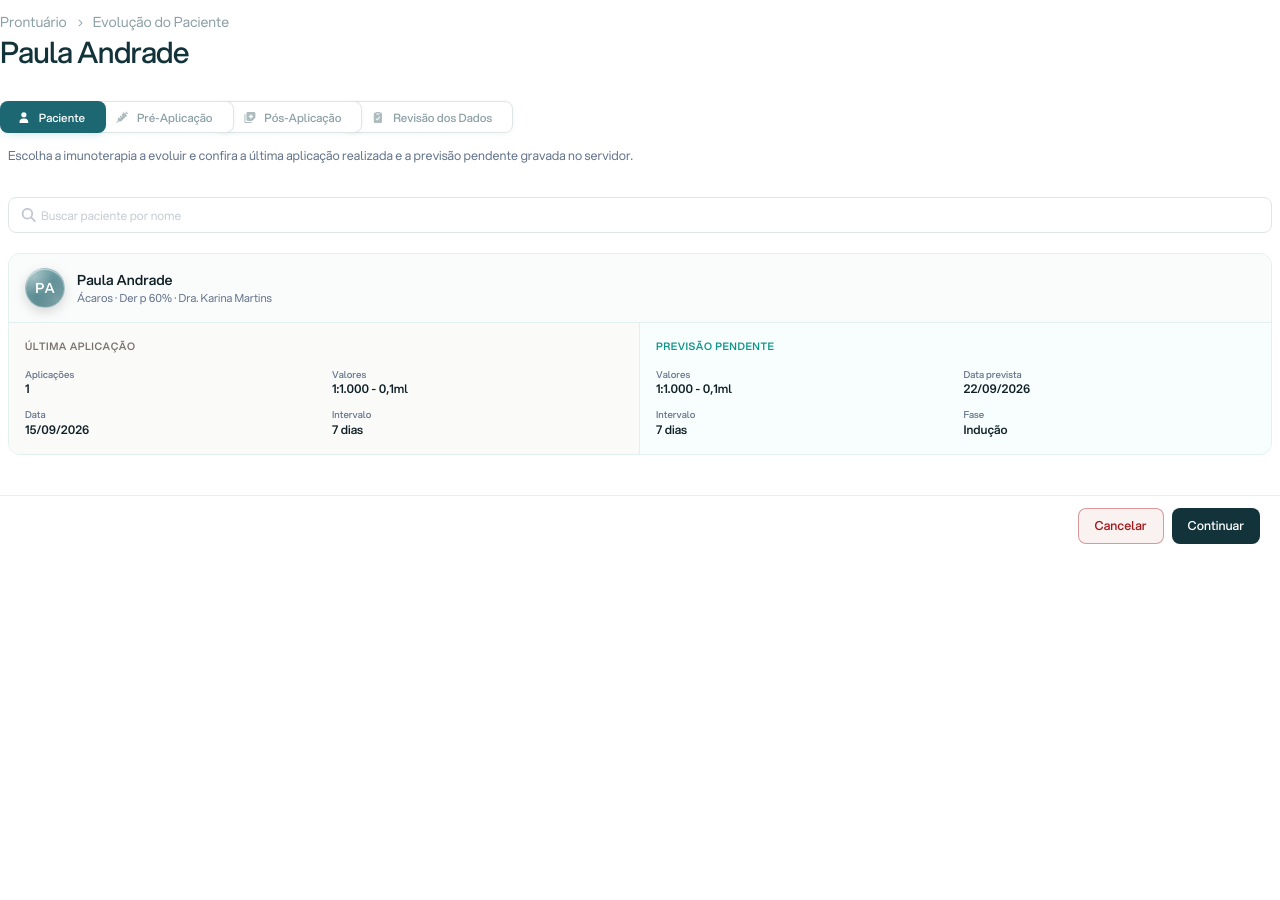
wizard de evolução sobre o contrato de doses › administra o valor previsto com prévia do servidor e comando idempotente
Expected: the text "Previsão pendente" is shown, 656,339 -> 774,353
Click the button "Continuar" at (1216, 526), box 1172,508 -> 1260,544
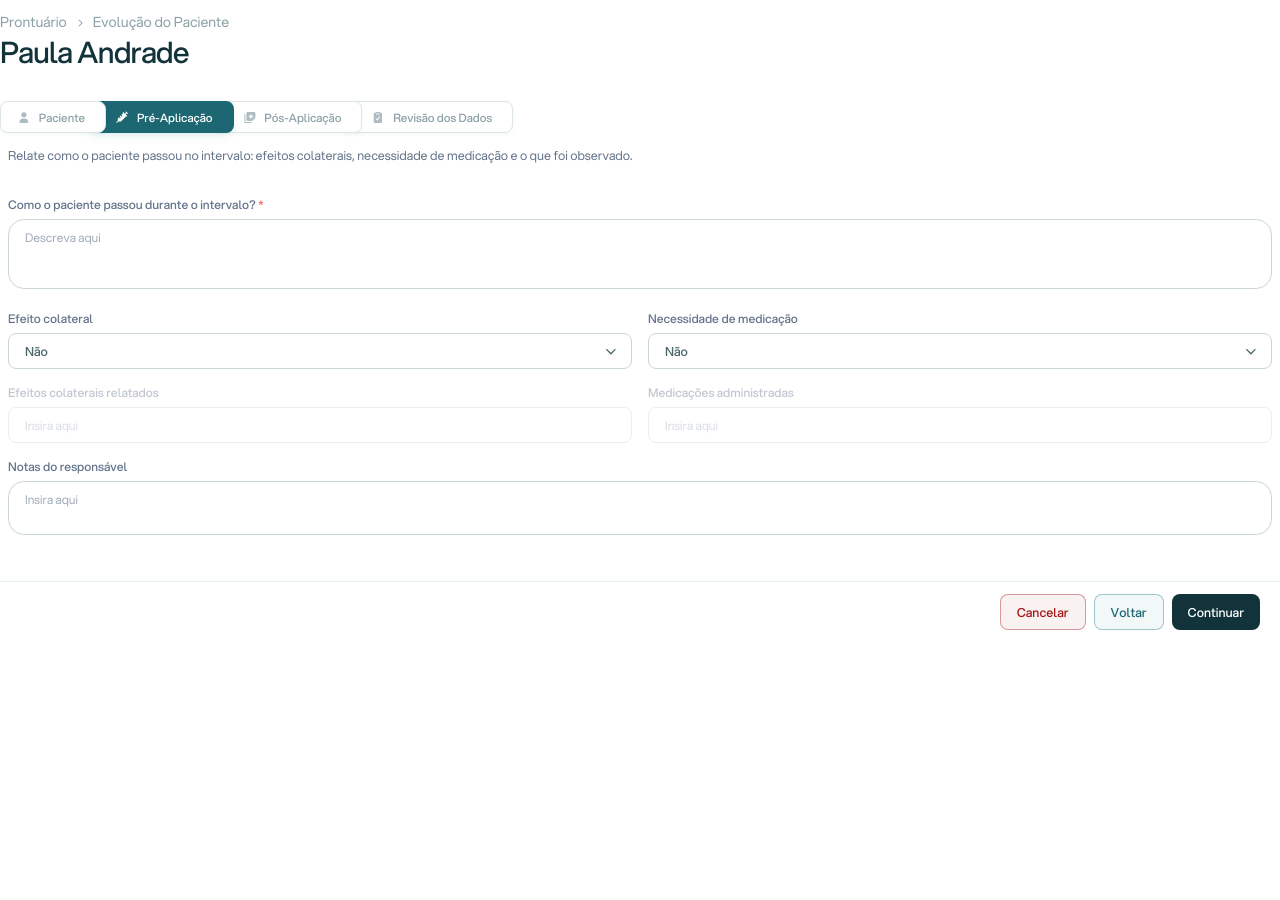
Type "Sem intercorrências no intervalo." into the text box with placeholder "Descreva aqui" at (640, 254), box 8,219 -> 1272,289
Click the button "Continuar" at (1216, 612), box 1172,594 -> 1260,630
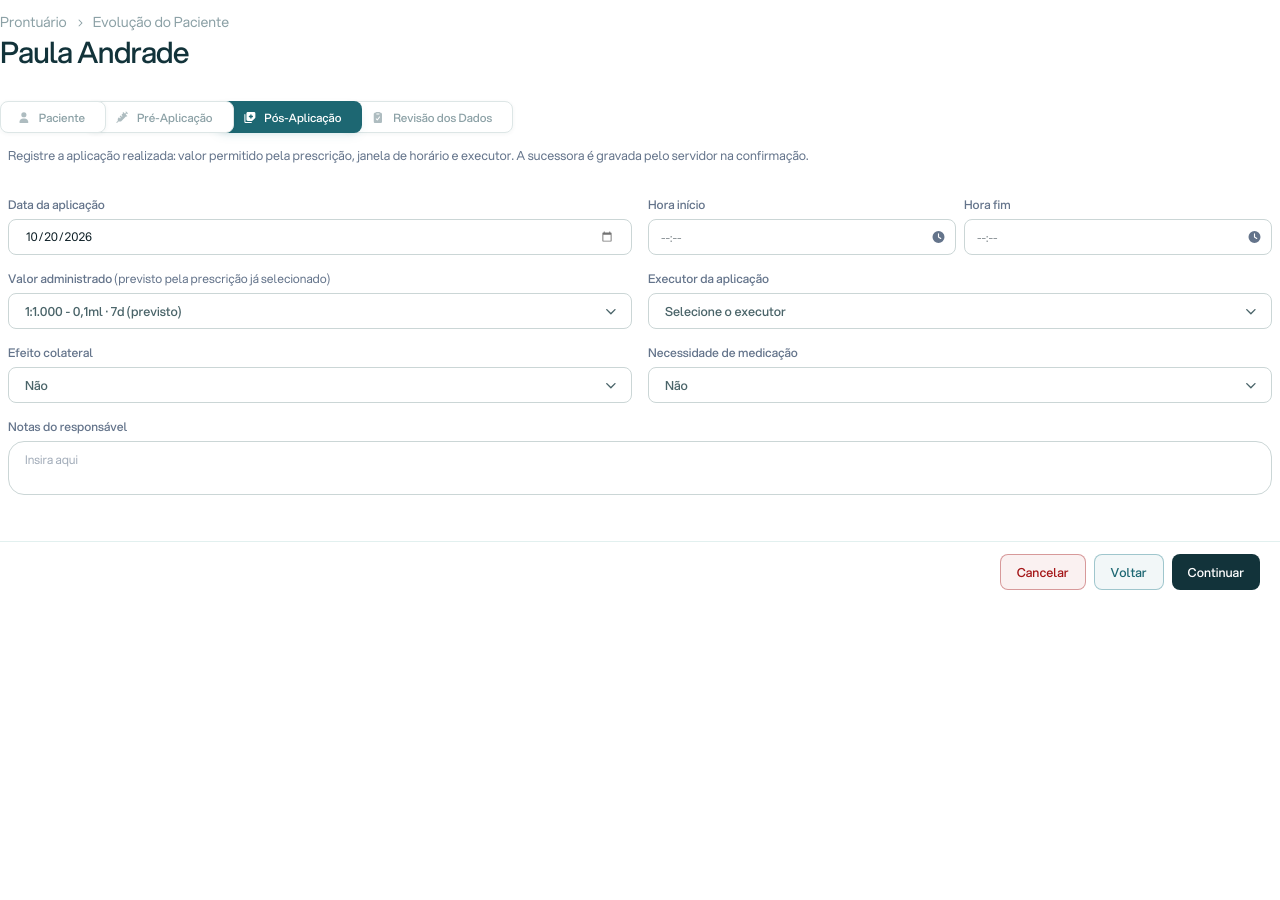
Expected: the dropdown below "Valor administrado" shows "1:1.000 - 0,1ml · 7d (previsto)", 8,293 -> 632,329
Type "10:00" into the field with placeholder "--:--" below "Hora início" at (802, 237), box 648,219 -> 956,255
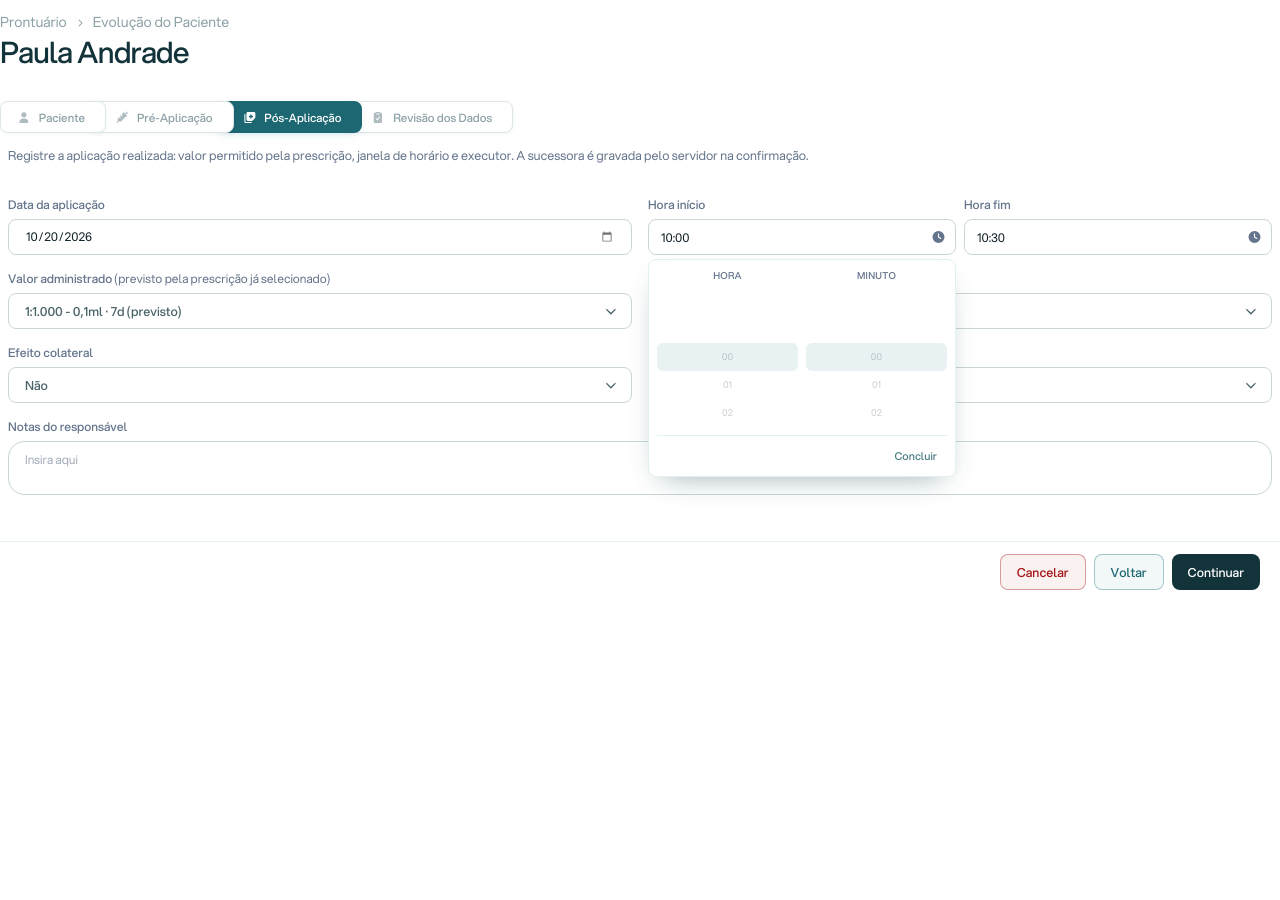
Select "Enf. Bruno Sales" in the dropdown below "Executor da aplicação" at (960, 311), box 648,293 -> 1272,329
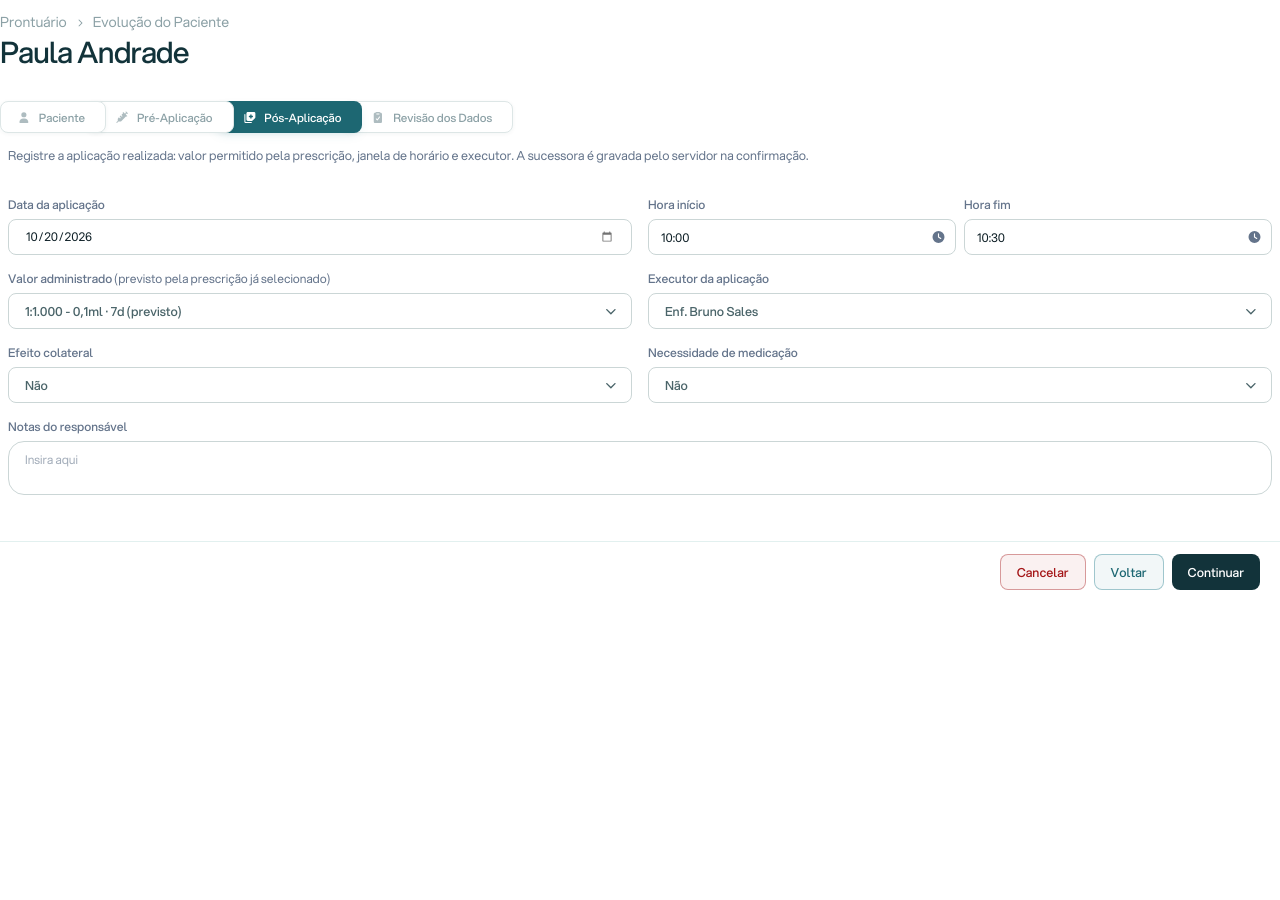
Click the button "Continuar" at (1216, 572), box 1172,554 -> 1260,590
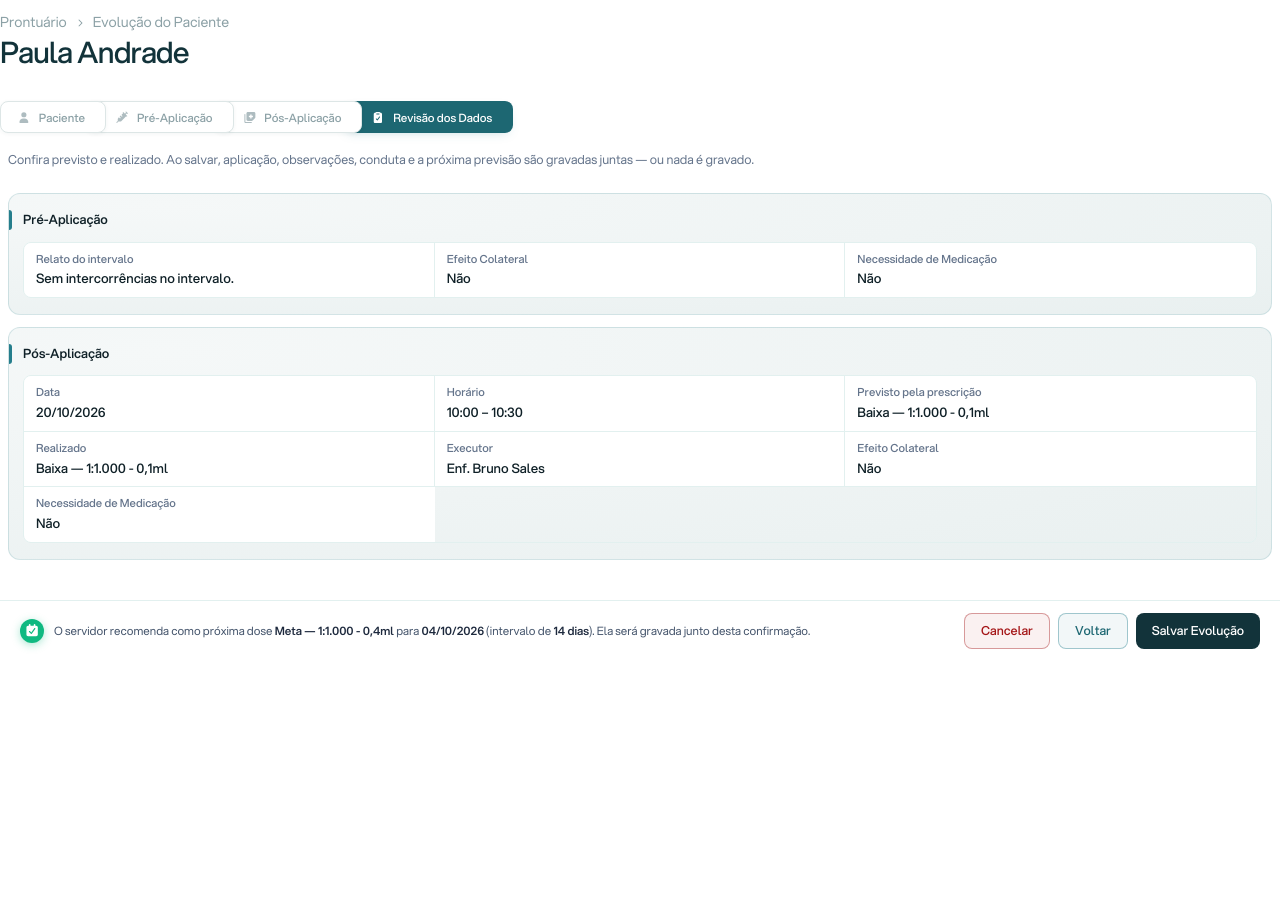
Expected: the text "O servidor recomenda como próxima dose" is shown, 54,622 -> 272,639
Expected: the text "Meta — 1:1.000 - 0,4ml" is shown, 275,622 -> 394,639
Click the button "Salvar Evolução" at (1198, 631), box 1136,613 -> 1260,649
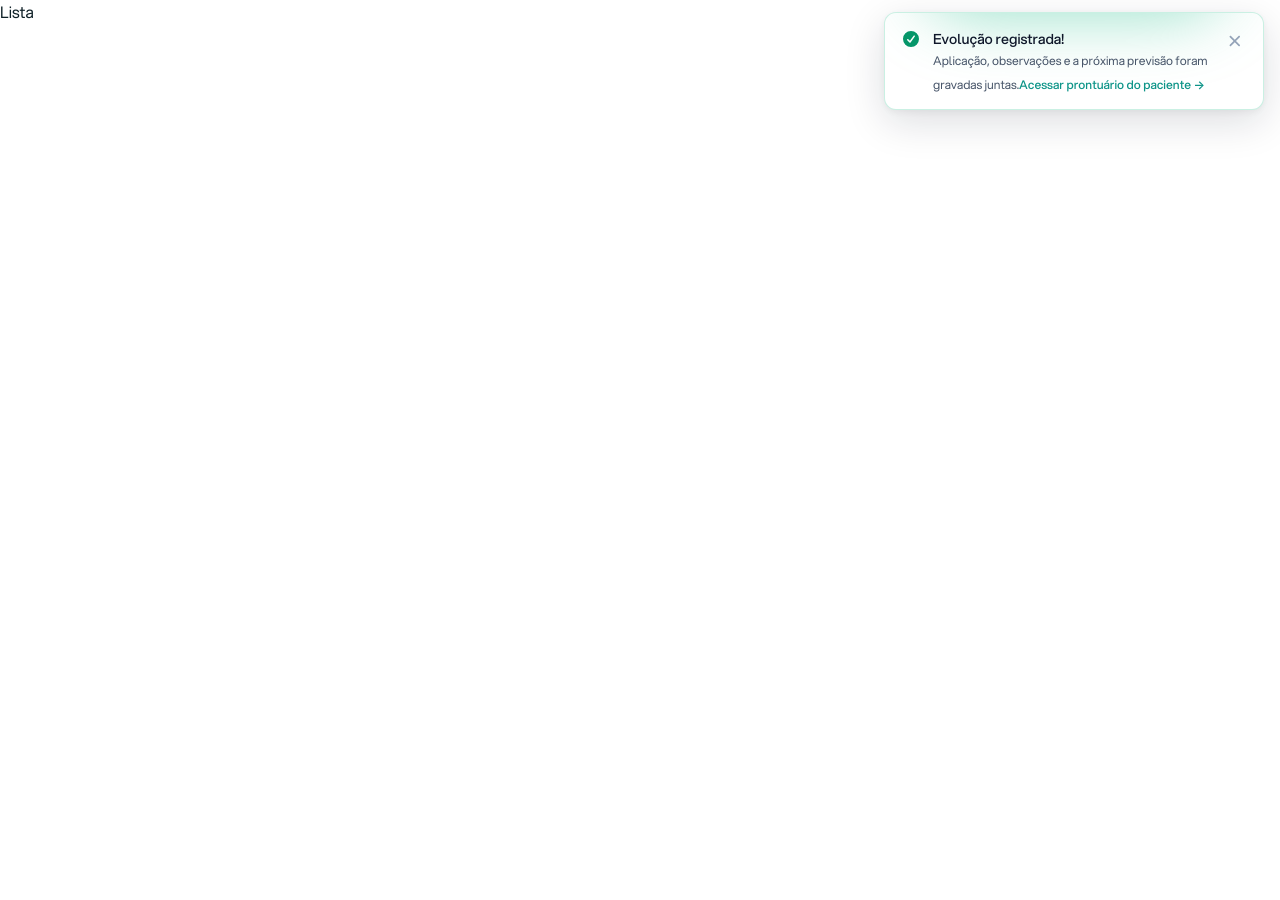
Expected: the heading "Lista" is shown, 0,0 -> 34,23
